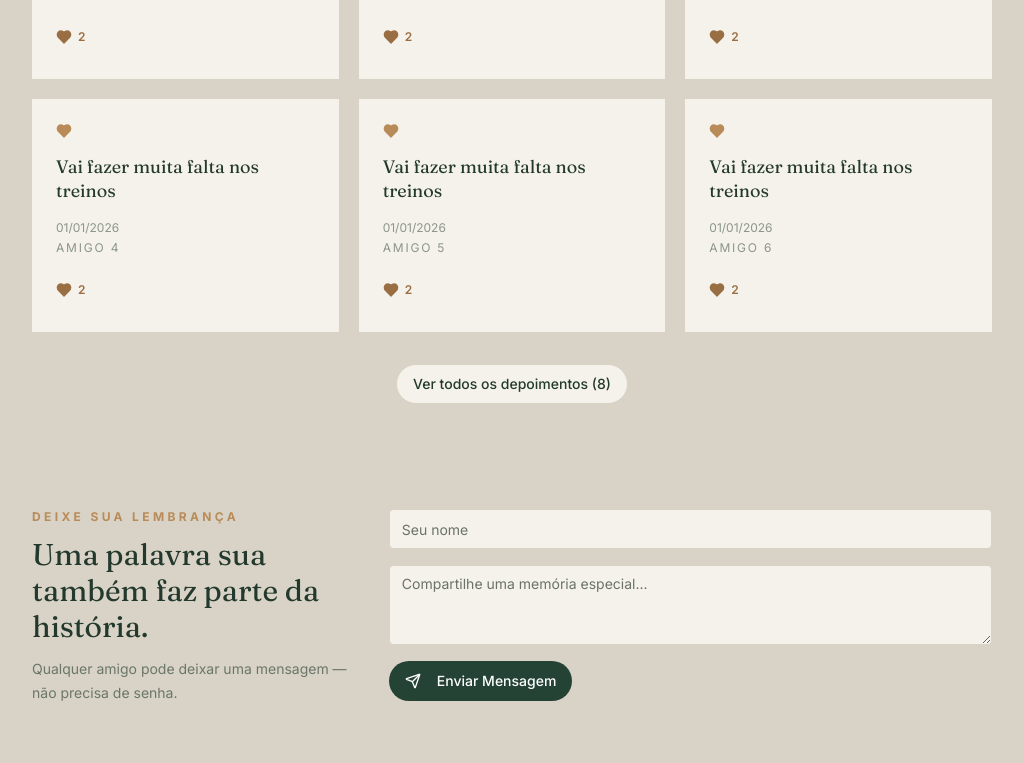
Scenario: TestimonialsSection › shows only the 6 most recent testimonials until 'ver todos' is clicked
The width and height of the screenshot is (1024, 763).
(page scrolled)
Expected: the text "Amigo 7" is not shown
What coordinates should you click on to do the following:
click the button "Ver todos os depoimentos (8)"
I would click on:
 (512, 384)
Its box is top-left (396, 364), bottom-right (628, 404).
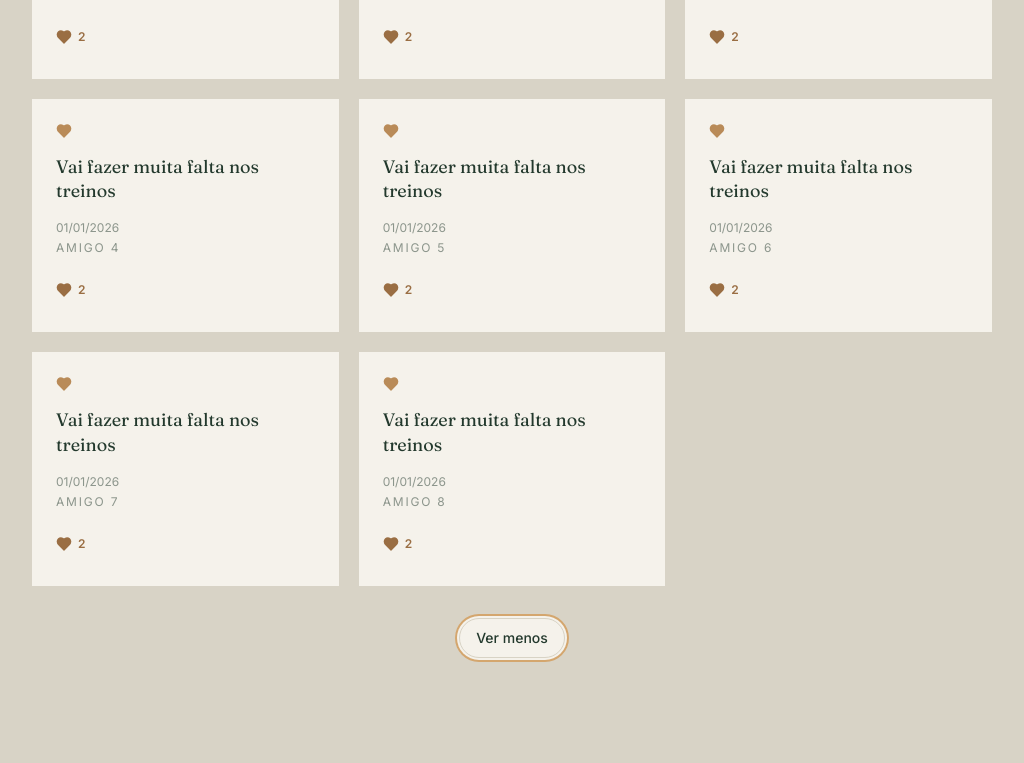
Result: the text "Amigo 7" is shown at top-left (56, 494), bottom-right (119, 508)
Result: the text "Amigo 8" is shown at top-left (383, 494), bottom-right (447, 508)
